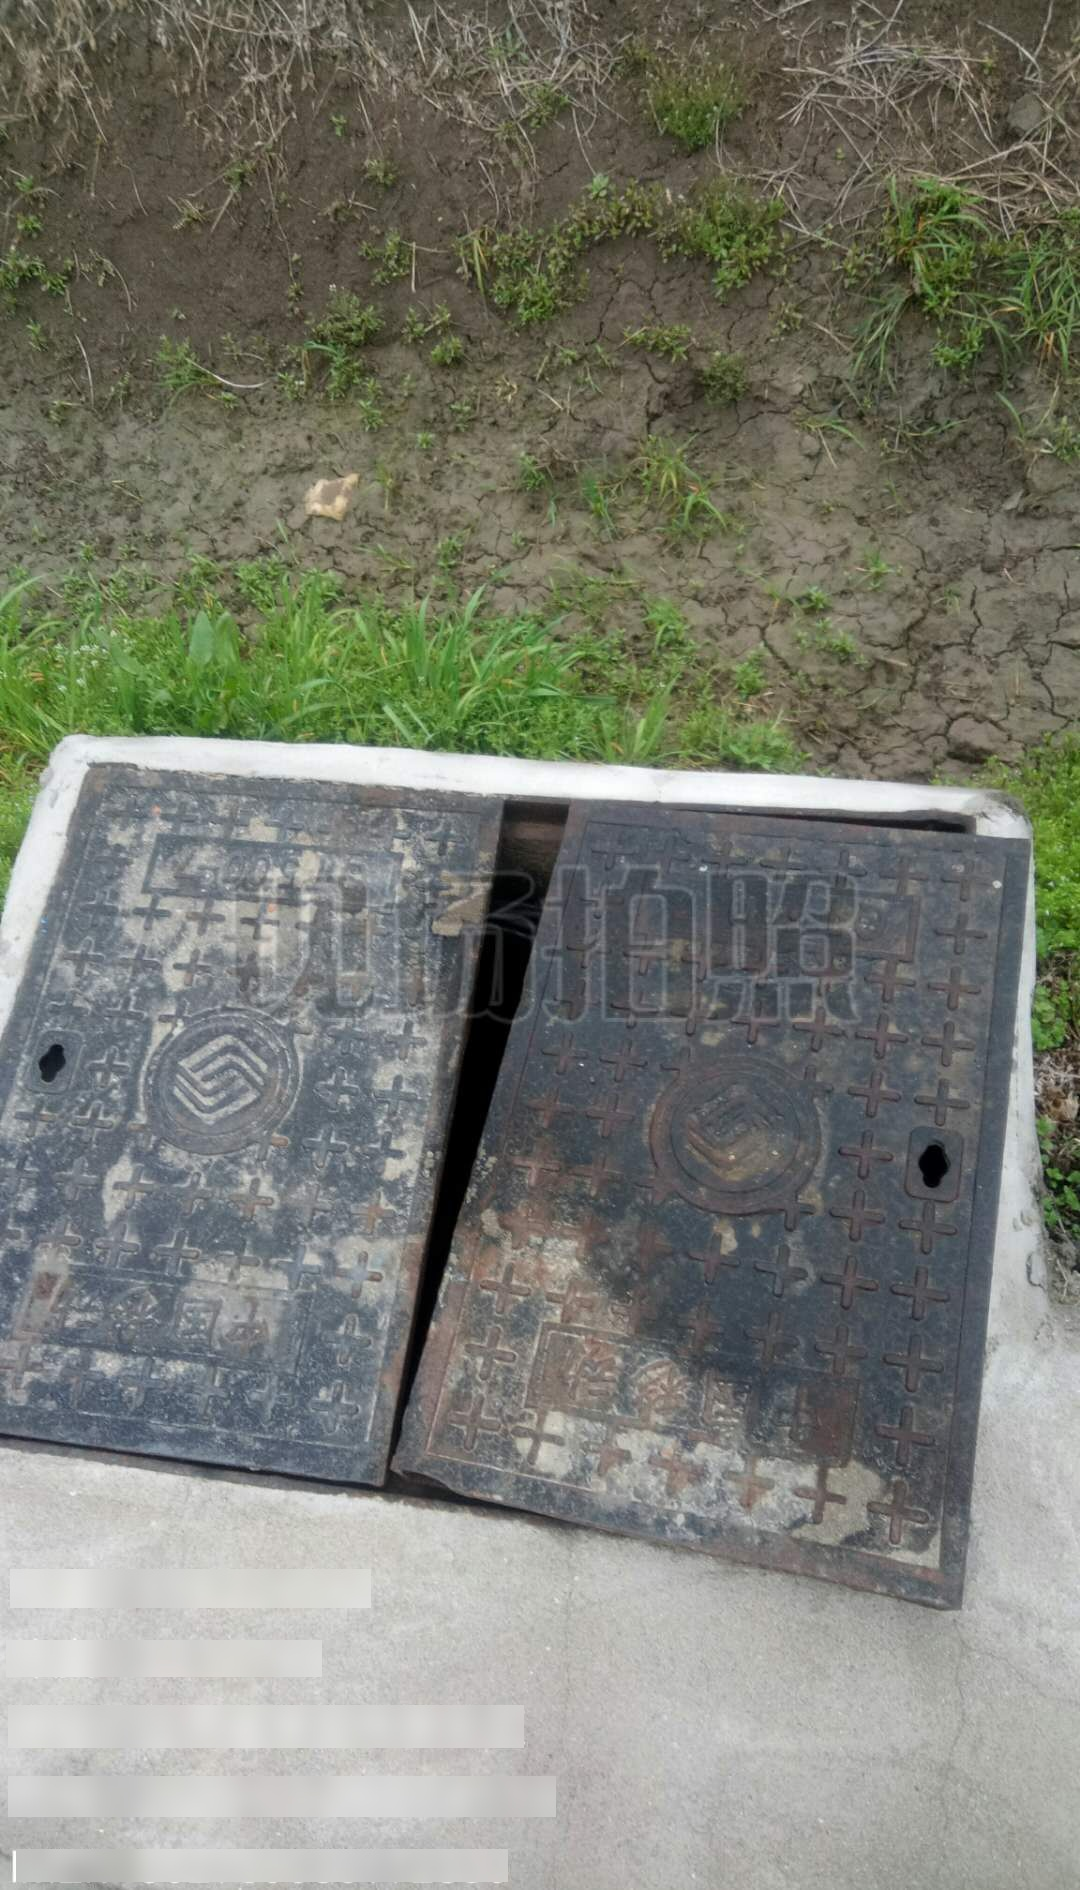uncovered: (3, 732, 1068, 1656)
